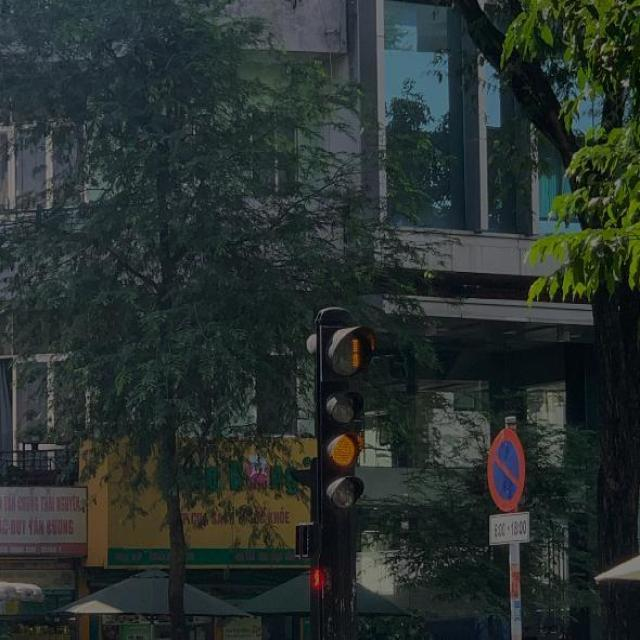yellow_light: (324, 393, 364, 510)
